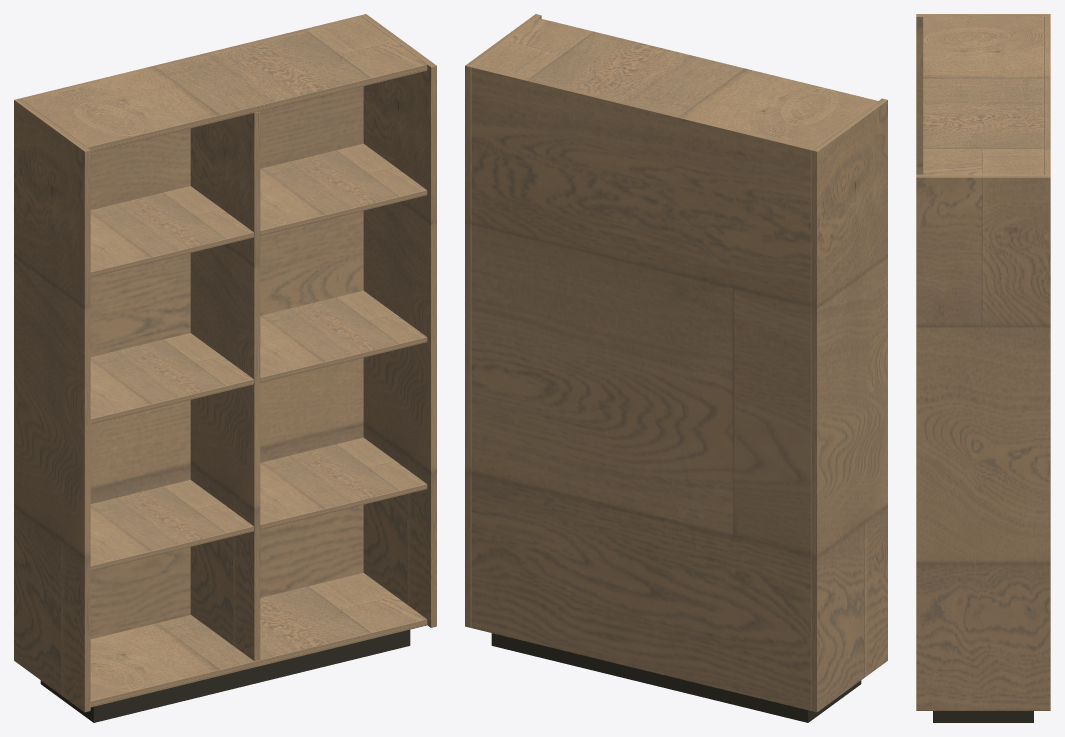
The model's file is entry_shell.glb.
The picture shows the model from 3 angles, left to right: view 1: azimuth 30°, elevation 25°; view 2: azimuth 150°, elevation 25°; view 3: azimuth 270°, elevation 25°; orthographic projection. The views are drawn at different scales.
Visible parts, largest first — view 1: entry_back, entry_side_-0.678, entry_side_0.678, entry_divider, entry_cap_2.168, entry_cap_0.092, entry_shelf_1.15_0.339, entry_shelf_0.6_0.339, entry_shelf_1.7_0.339, entry_shelf_1.7_-0.339, entry_shelf_0.6_-0.339, entry_shelf_1.15_-0.339 (+1 smaller); view 2: entry_back, entry_side_-0.678, entry_cap_2.168, entry_plinth, entry_side_0.678; view 3: entry_side_0.678, entry_cap_2.168, entry_side_-0.678, entry_plinth, entry_back.
Boxes of the visible parts, box(x1,y1,x2,y2) form: entry_back: box(20, 15, 363, 639); entry_side_-0.678: box(14, 98, 90, 712); entry_side_0.678: box(360, 14, 436, 627); entry_divider: box(190, 111, 260, 660); entry_cap_2.168: box(24, 18, 427, 152); entry_cap_0.092: box(90, 573, 427, 707); entry_shelf_1.15_0.339: box(260, 290, 427, 382); entry_shelf_0.6_0.339: box(260, 437, 427, 529); entry_shelf_1.7_0.339: box(260, 143, 427, 235); entry_shelf_1.7_-0.339: box(90, 186, 253, 277); entry_shelf_0.6_-0.339: box(90, 480, 253, 570); entry_shelf_1.15_-0.339: box(90, 333, 253, 424); entry_back: box(471, 64, 814, 710); entry_side_-0.678: box(811, 98, 887, 712); entry_cap_2.168: box(475, 18, 877, 147); entry_plinth: box(491, 633, 861, 722); entry_side_0.678: box(465, 14, 541, 627); entry_side_0.678: box(916, 174, 1050, 710); entry_cap_2.168: box(923, 17, 1043, 174); entry_side_-0.678: box(916, 14, 1050, 174); entry_plinth: box(933, 711, 1033, 722); entry_back: box(1044, 17, 1050, 174).
Size of the model in its own units: 1.38 by 2.18 by 0.48.
Materials: 2 (1 with a texture image).
